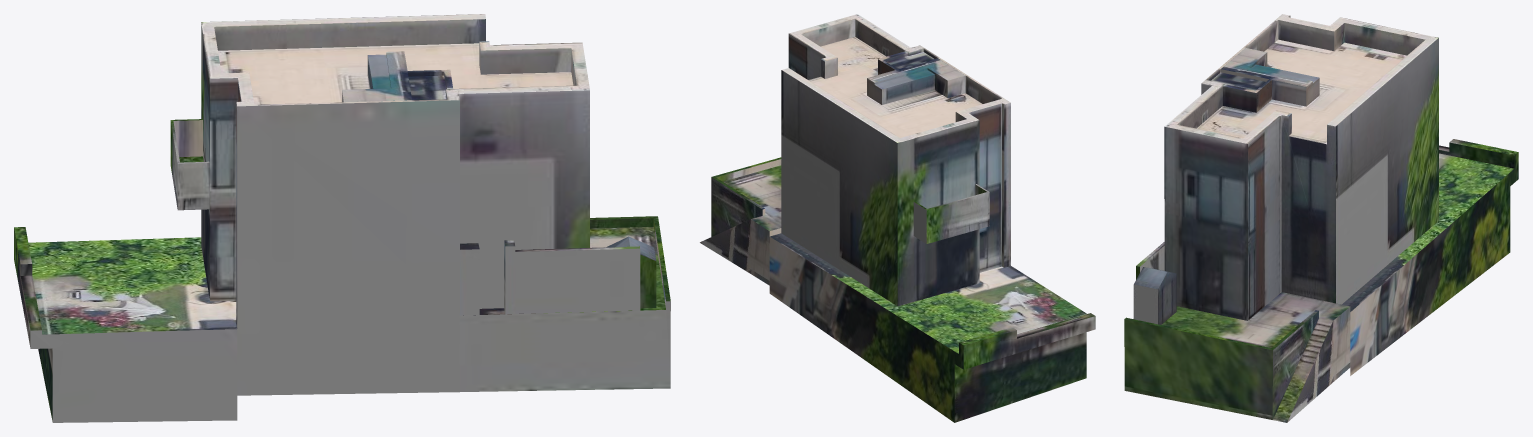
The picture shows the model from 3 angles, left to right: view 1: azimuth 30°, elevation 25°; view 2: azimuth 150°, elevation 25°; view 3: azimuth 270°, elevation 25°; orthographic projection. The views are drawn at different scales.
Parts seen in each view (by area): view 1: B287344031001062A0; view 2: B287344031001062A0; view 3: B287344031001062A0.
Boxes of the visible parts, x1=… form: B287344031001062A0: x1=14, y1=14, x2=670, y2=422; B287344031001062A0: x1=700, y1=14, x2=1095, y2=422; B287344031001062A0: x1=1124, y1=14, x2=1518, y2=422.
Bounding box in the file's own units: 25.16 × 13.2 × 17.92.
1 material, 1 textured.
